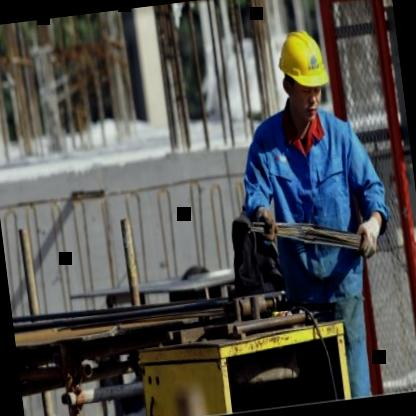helmet: (267, 19, 336, 130)
